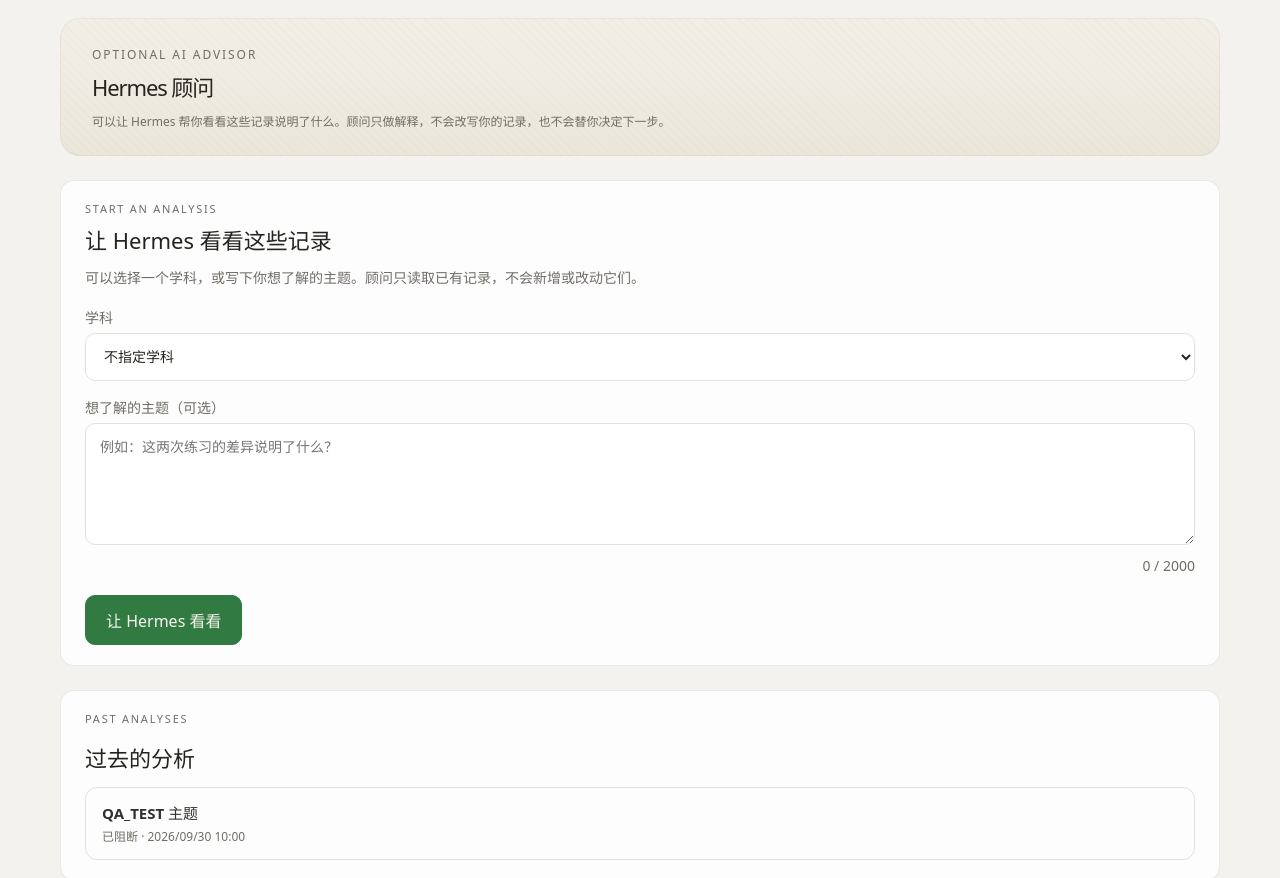
Test: optional AI advisor › renders facts but no inferences when the model output is blocked
Click the button with aria-label "打开分析：QA_TEST 主题". click: (150, 813)
box: top-left (85, 786), bottom-right (1195, 860)
(page scrolled)
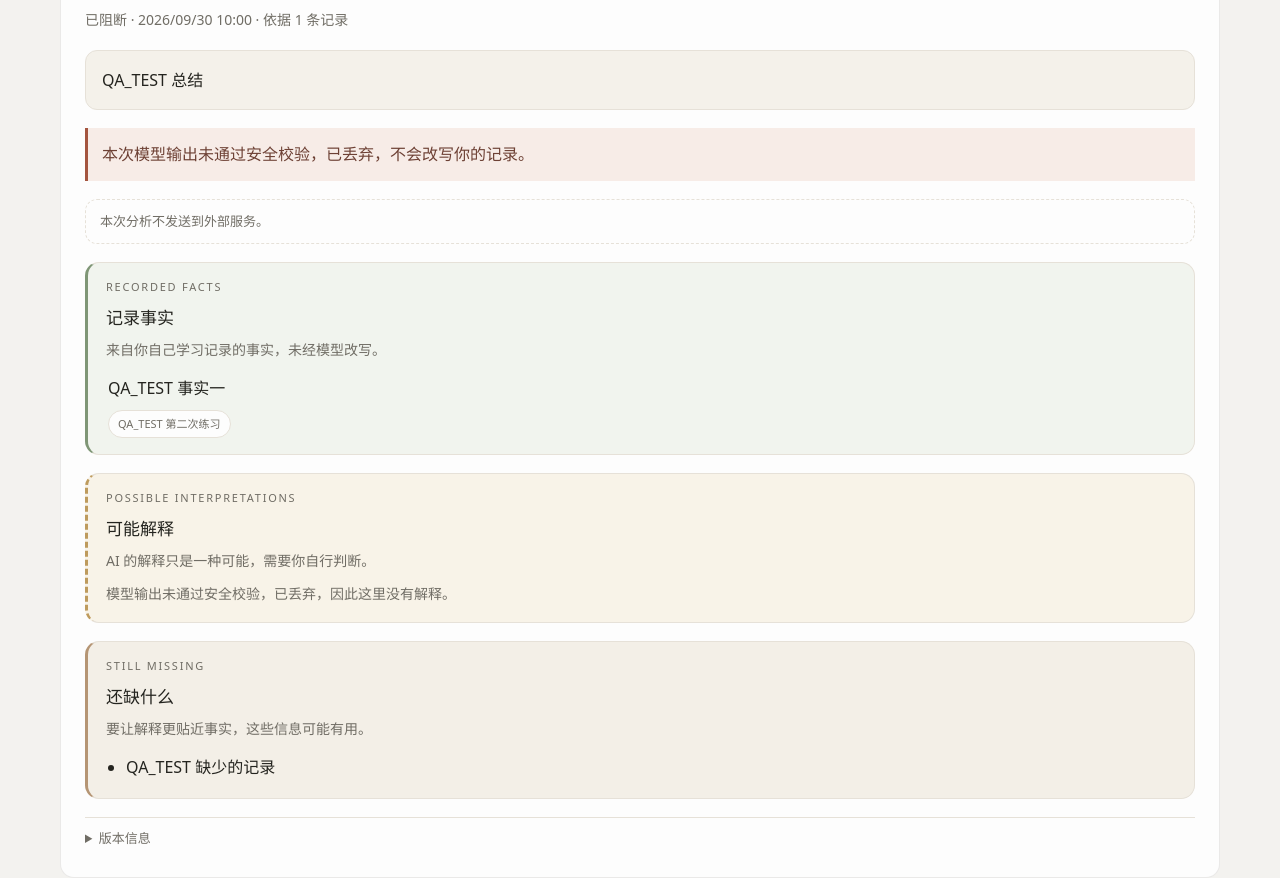
Result: the text "本次模型输出未通过安全校验，已丢弃，不会改写你的记录。" is shown at top-left (102, 143), bottom-right (534, 165)
Result: the text "QA_TEST 事实一" is shown at top-left (108, 378), bottom-right (225, 400)
Result: the text "模型输出未通过安全校验，已丢弃，因此这里没有解释。" is shown at top-left (106, 584), bottom-right (456, 603)
